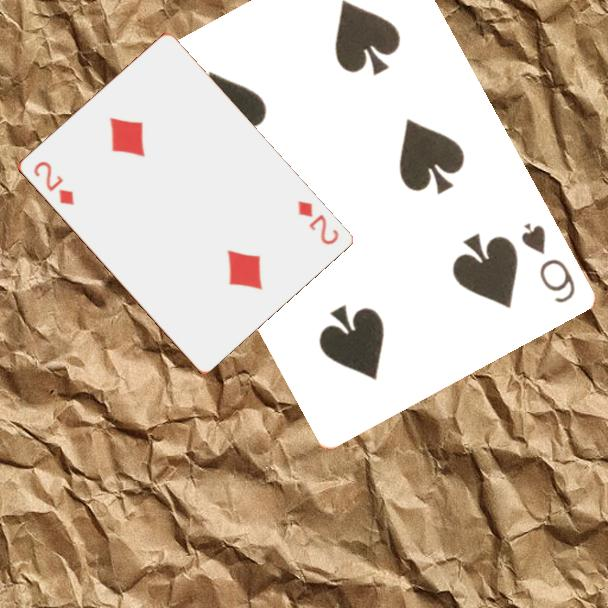d02: (294, 197, 342, 248), (29, 158, 77, 208)
s06: (517, 219, 578, 306)
